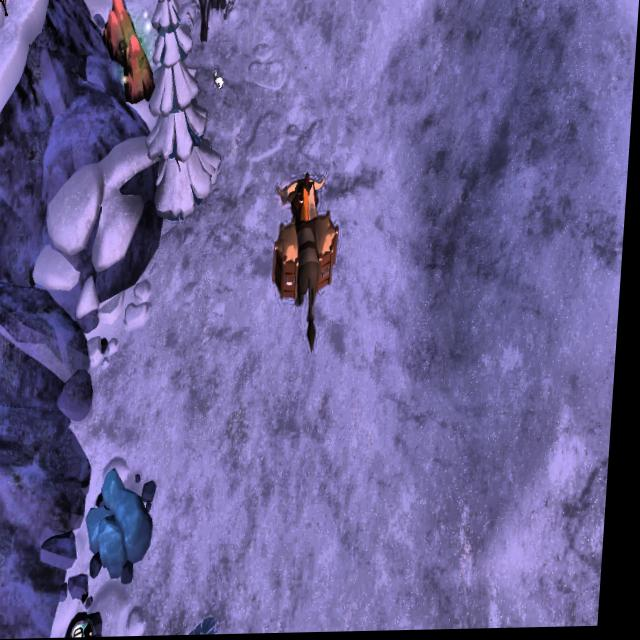rock_t4: (87, 464, 168, 587)
rock_t5: (100, 0, 142, 70), (119, 35, 160, 106)
